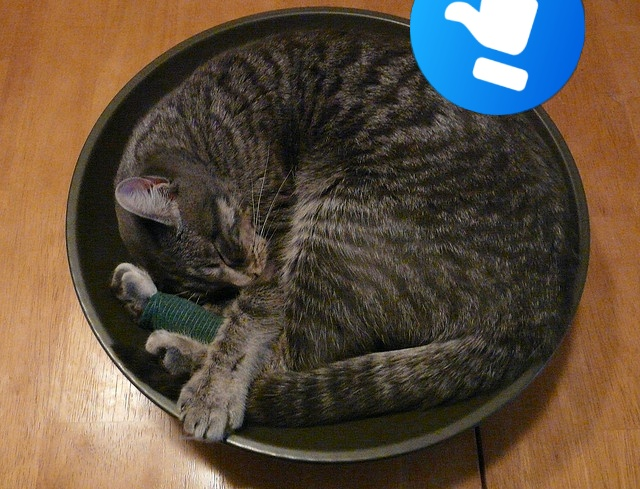like: (410, 0, 585, 115)
